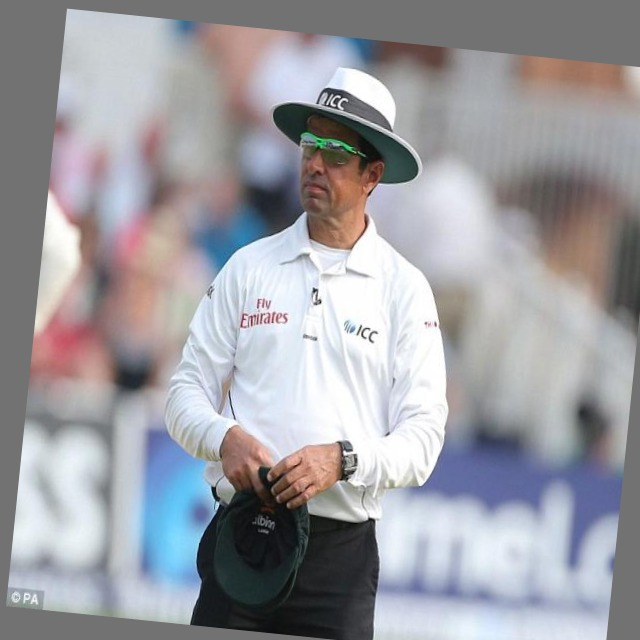No_Action: (135, 37, 491, 640)
